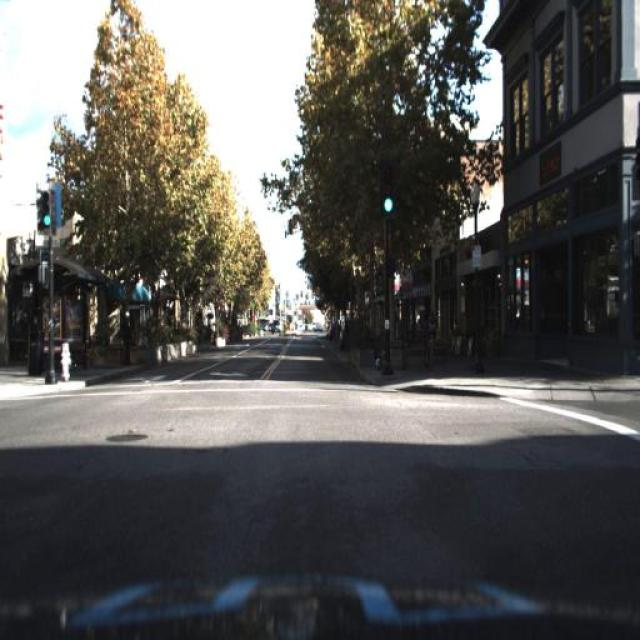trafficLight: (115, 306, 137, 372), (422, 299, 438, 353), (121, 302, 133, 368)
trafficLight-Green: (380, 160, 400, 218)
trafficLight-GreenLeft: (379, 163, 396, 219), (36, 187, 55, 237), (40, 188, 51, 237)
